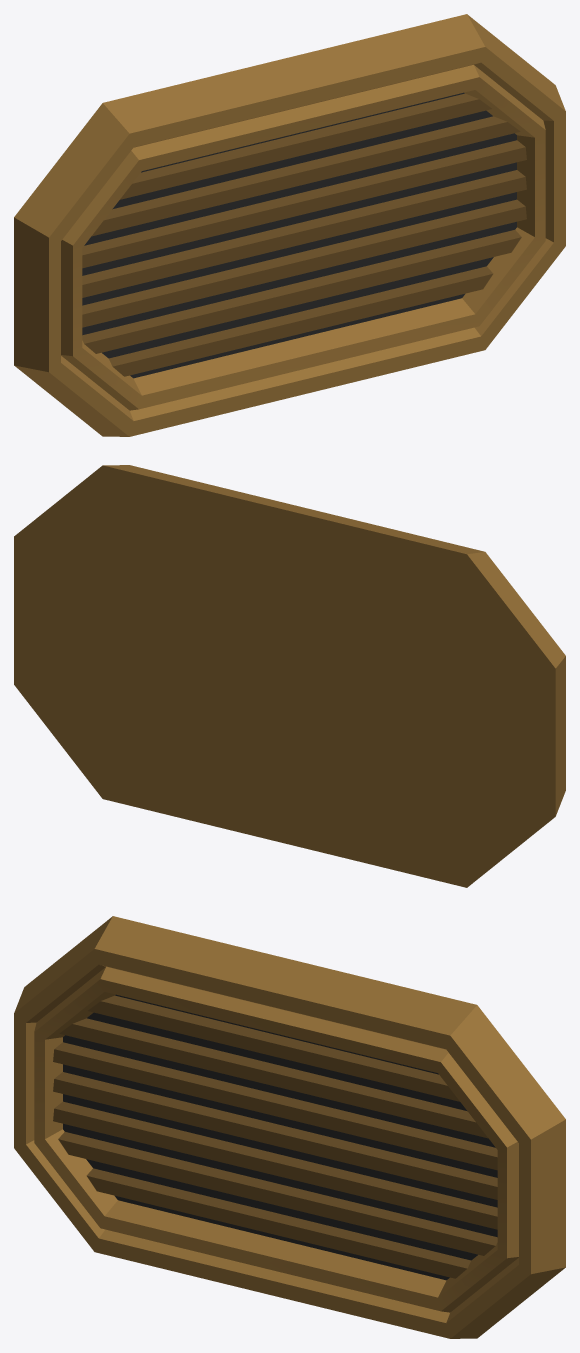
File: vent.glb
The picture shows the model from 3 angles, top to bottom: view 1: azimuth 30°, elevation 25°; view 2: azimuth 150°, elevation 25°; view 3: azimuth 330°, elevation 25°; orthographic projection.
Parts seen in each view (by area): view 1: vent; view 2: vent; view 3: vent.
Boxes of the visible parts, <box> form: vent: <box>14,14,565,436</box>; vent: <box>14,465,565,887</box>; vent: <box>14,916,565,1338</box>.
Bounding box in the file's own units: 1 × 0.5886 × 0.0784.
